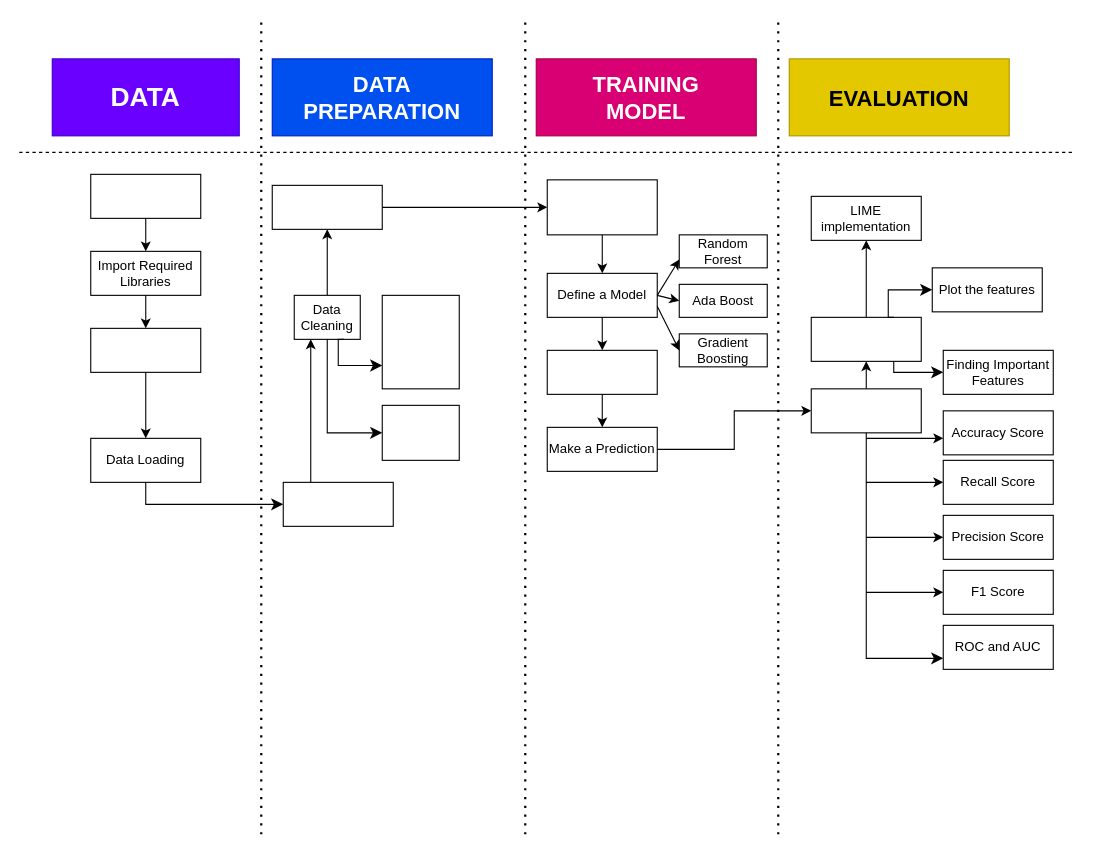
This 1096x855 diagram has some shape labels left out. Each missing label, with the centre of its shape:
"Checking for missing values and handled them" belongs at point (420, 341).
"Cleaned Data" belongs at point (326, 206).
"Custome Churn Dataset" belongs at point (145, 195).
"Exclude the unwanted column" belongs at point (420, 432).
"Feature Importance" belongs at point (865, 338).
"Fit and Train model" belongs at point (601, 371).
"Inspection and cleaning Data" belongs at point (337, 503).
"Model Validation" belongs at point (865, 410).
"Perform Train-Test Split" belongs at point (601, 207).
"Read Dataset" belongs at point (145, 349).
